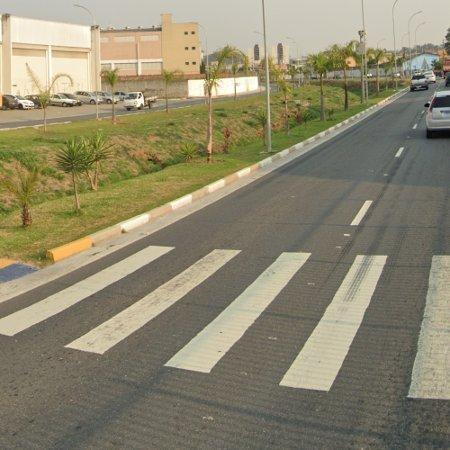crosswalks: (1, 233, 443, 399)
